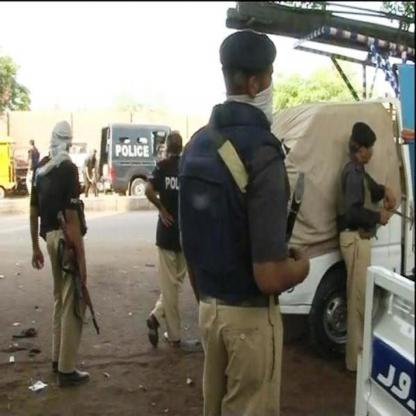face: (250, 63, 274, 108), (362, 144, 374, 164)
